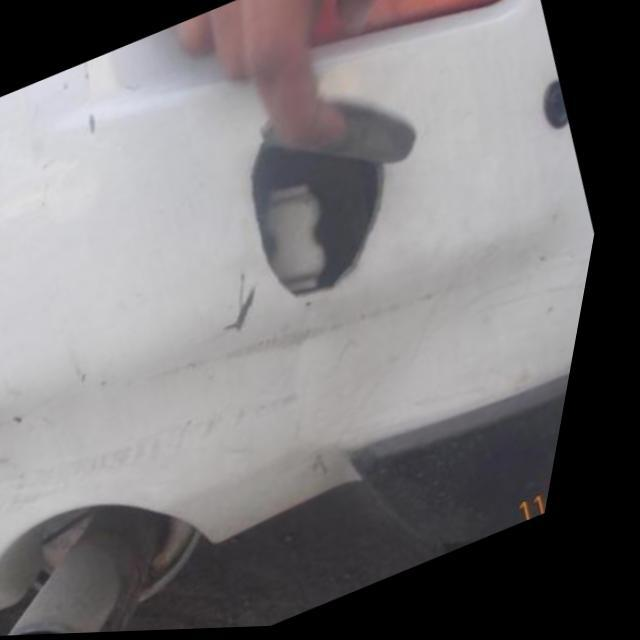crack: (248, 106, 403, 310), (237, 269, 270, 336)
scratch: (0, 388, 309, 512), (130, 286, 465, 380), (0, 384, 81, 469), (65, 58, 116, 136)
